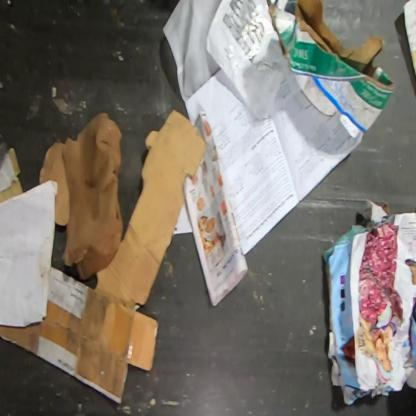cardboard: (96, 106, 208, 312), (0, 264, 161, 405), (265, 0, 397, 140), (0, 182, 57, 327), (0, 140, 24, 204)
